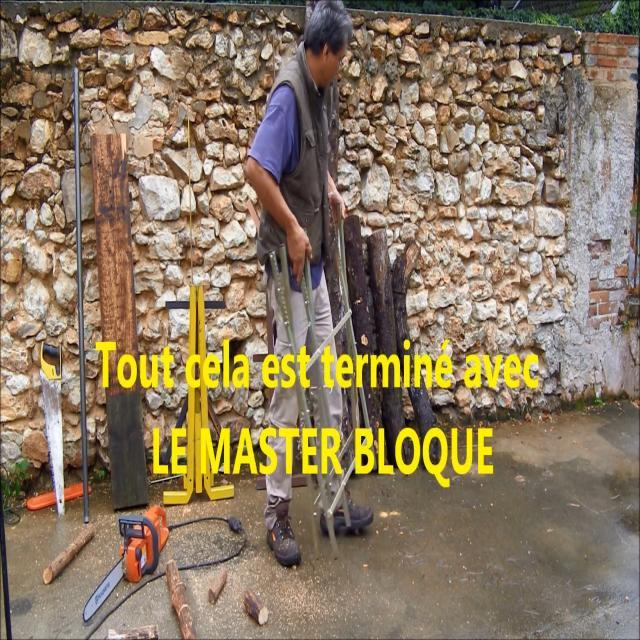Chainsaw: (84, 489, 178, 637)
